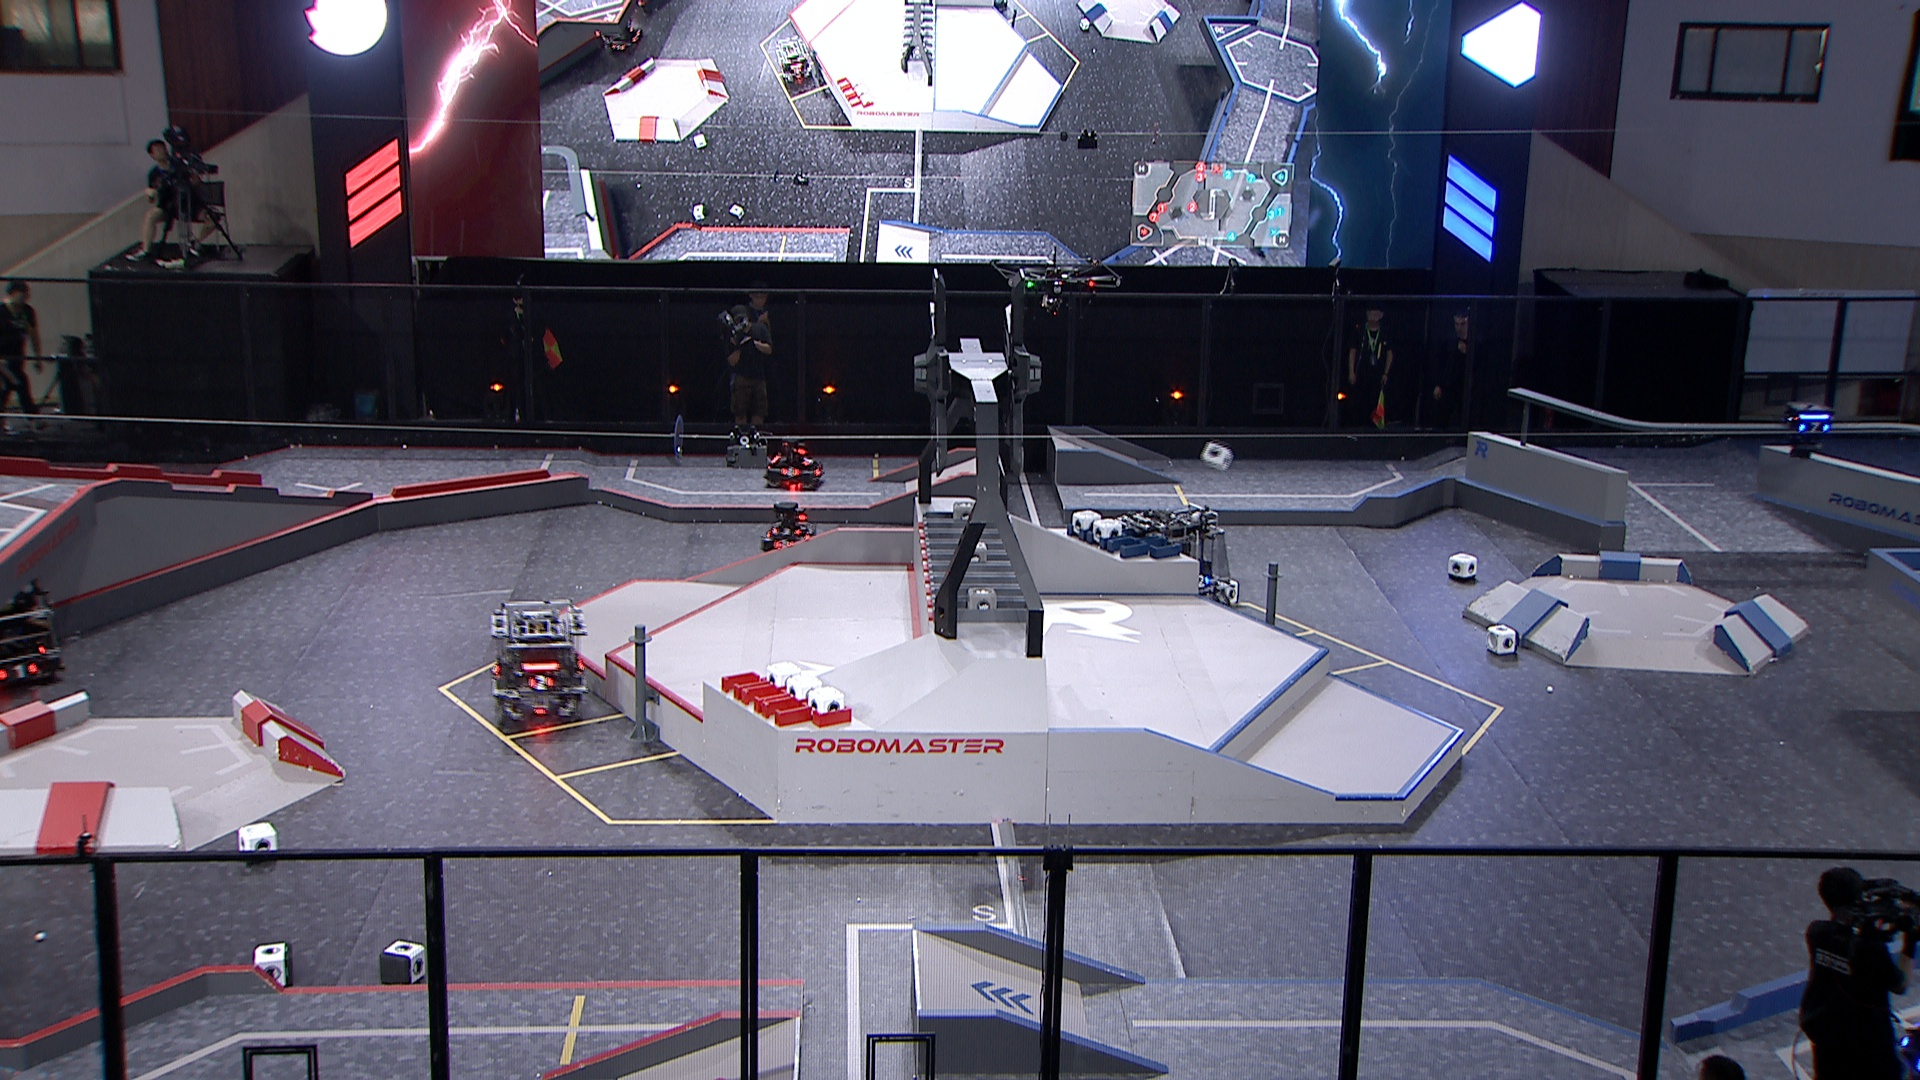armor: (0, 659, 34, 684), (1793, 419, 1832, 436), (527, 674, 553, 690), (1195, 574, 1211, 589), (774, 526, 800, 535), (783, 465, 803, 477), (774, 538, 793, 550), (800, 455, 816, 467)
car: (483, 593, 589, 731), (1122, 505, 1244, 618), (760, 498, 823, 564), (757, 436, 828, 491), (1879, 1005, 1920, 1080)
ignore: (774, 38, 820, 92), (595, 21, 644, 55)
watcher: (1779, 396, 1840, 462)
